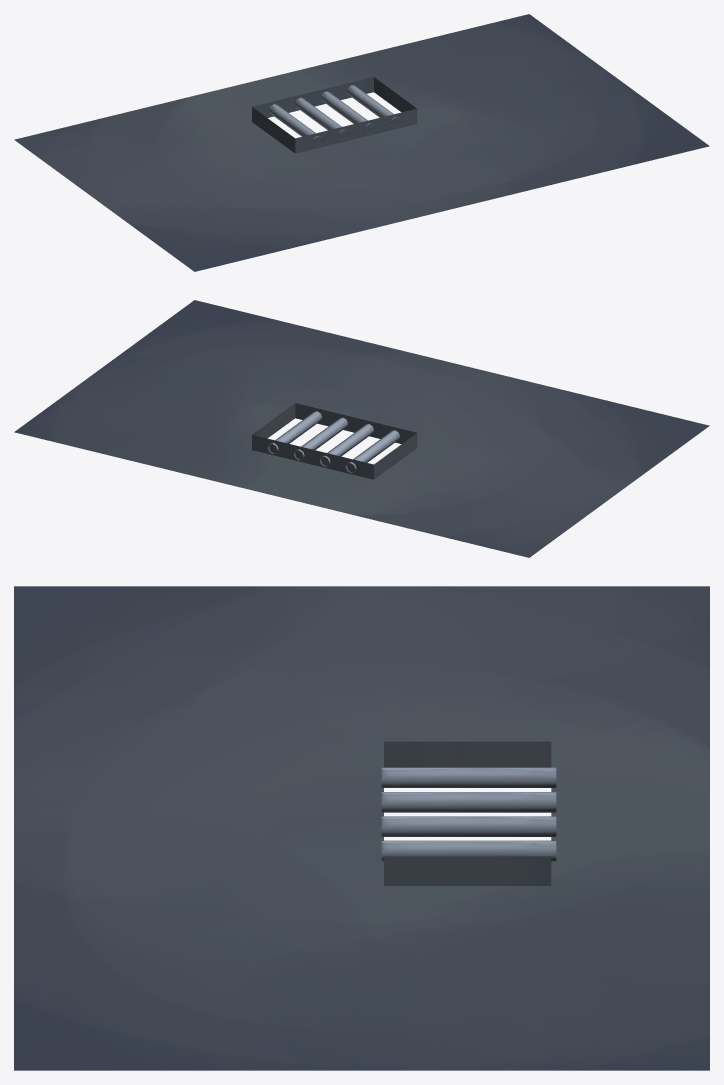
Rendered from Ceiling.fbx.
3 views of the same model, one above another, from view 1: azimuth 30°, elevation 25°; view 2: azimuth 150°, elevation 25°; view 3: azimuth 270°, elevation 25° (orthographic). The views are drawn at different scales.
Parts seen in each view (by area): view 1: Roof1; view 2: Roof1; view 3: Roof1.
Part boxes in pixels (<box>): Roof1: <box>14,14,709,271</box>; Roof1: <box>14,300,709,557</box>; Roof1: <box>14,586,709,1070</box>.
Size of the model in its own units: 3573 by 101 by 2170.
Materials: 1 (1 with a texture image).
